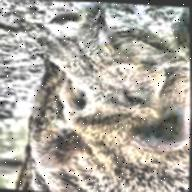boar: (17, 5, 192, 192)
